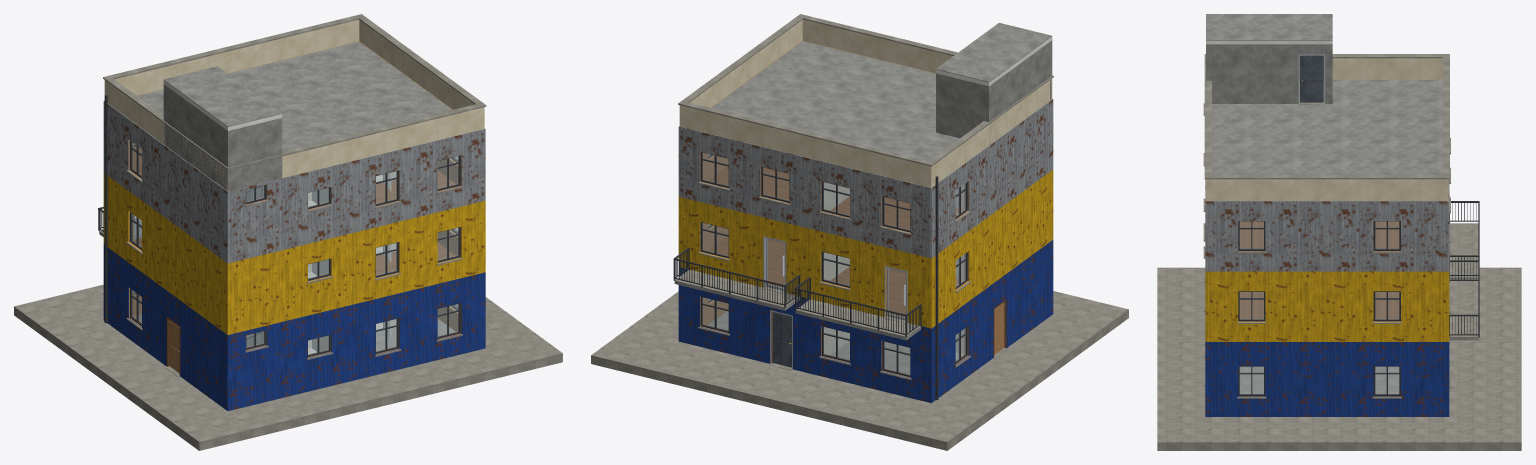
The model's file is b_container_flats.gltf.
3 views of the same model, side by side, from view 1: azimuth 30°, elevation 25°; view 2: azimuth 150°, elevation 25°; view 3: azimuth 270°, elevation 25° (orthographic). The views are drawn at different scales.
Parts seen in each view (by area): view 1: S_container_flats; view 2: S_container_flats, D_container_flats_F1_S3_Door0, D_container_flats_F2_S1_Door0, D_container_flats_F2_S3_Door0; view 3: S_container_flats, D_container_flats_PH_W0_Door0.
Boxes of the visible parts, bbox=[...] form: S_container_flats: bbox=[14, 14, 562, 450]; S_container_flats: bbox=[591, 14, 1128, 450]; D_container_flats_F1_S3_Door0: bbox=[772, 312, 791, 367]; D_container_flats_F2_S1_Door0: bbox=[766, 238, 785, 290]; D_container_flats_F2_S3_Door0: bbox=[887, 267, 906, 320]; S_container_flats: bbox=[1157, 14, 1521, 450]; D_container_flats_PH_W0_Door0: bbox=[1300, 55, 1323, 102].
Size of the model in its own units: 17 by 13.1 by 15.
Materials: 21 (14 with a texture image).
